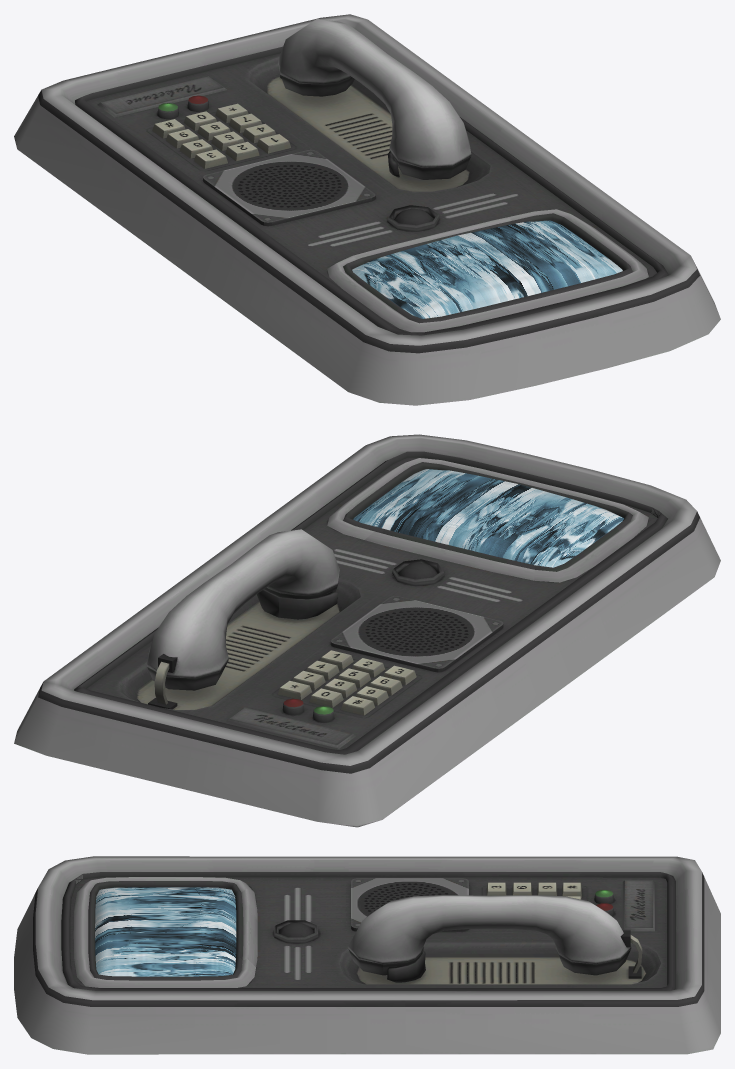
The model's file is nt_phone_wall_LOD1.obj.
The picture shows the model from 3 angles, top to bottom: view 1: azimuth 30°, elevation 25°; view 2: azimuth 150°, elevation 25°; view 3: azimuth 270°, elevation 25°; orthographic projection. The views are drawn at different scales.
Parts seen in each view (by area): view 1: mtl_nt_phone_wall, mtl_nt_2020_screen_animated_01; view 2: mtl_nt_phone_wall, mtl_nt_2020_screen_animated_01; view 3: mtl_nt_phone_wall, mtl_nt_2020_screen_animated_01.
Part boxes in pixels (<box>): mtl_nt_phone_wall: <box>14,14,720,405</box>; mtl_nt_2020_screen_animated_01: <box>352,220,622,318</box>; mtl_nt_phone_wall: <box>14,434,720,827</box>; mtl_nt_2020_screen_animated_01: <box>353,469,623,567</box>; mtl_nt_phone_wall: <box>14,856,720,1054</box>; mtl_nt_2020_screen_animated_01: <box>95,887,236,976</box>.
Bounding box in the file's own units: 47.94 × 14.59 × 88.44.
